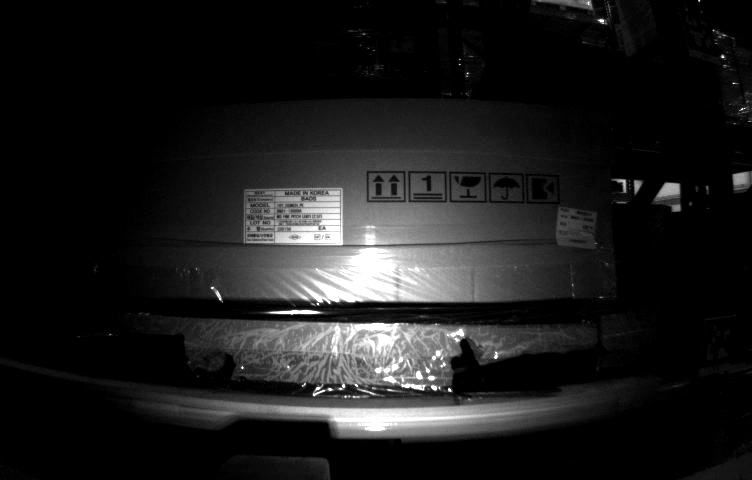True Barcode: (554, 204, 599, 251)
